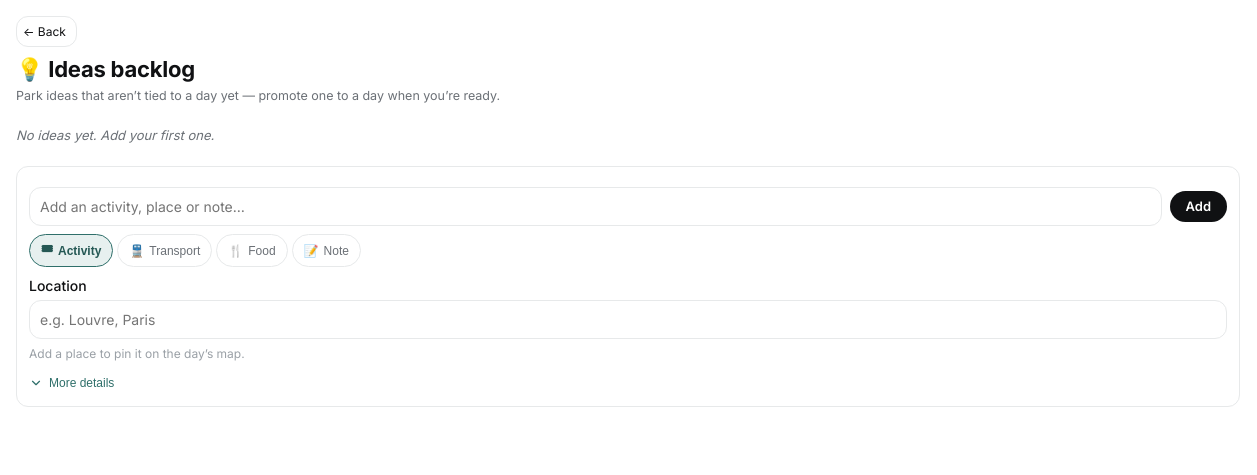
Test: BacklogPage › adds a new backlog idea via the shared form and shows it in the list
Type "Visit the Louvre" into the field named "Title".
click(595, 206); type("Visit the Louvre")  # box [29, 187, 1162, 226]
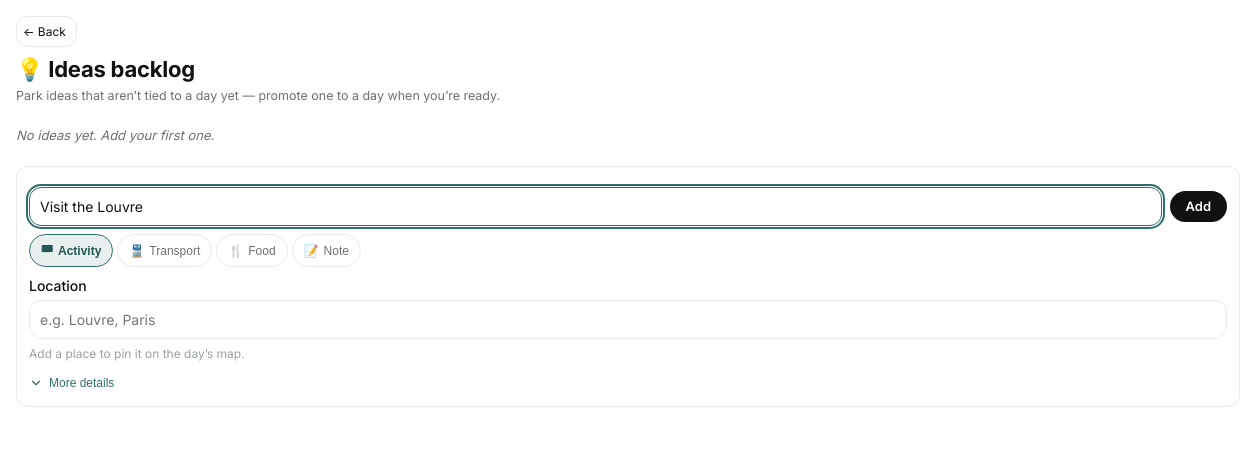
Click the button "Add".
click(1198, 206)  # box [1170, 191, 1227, 222]
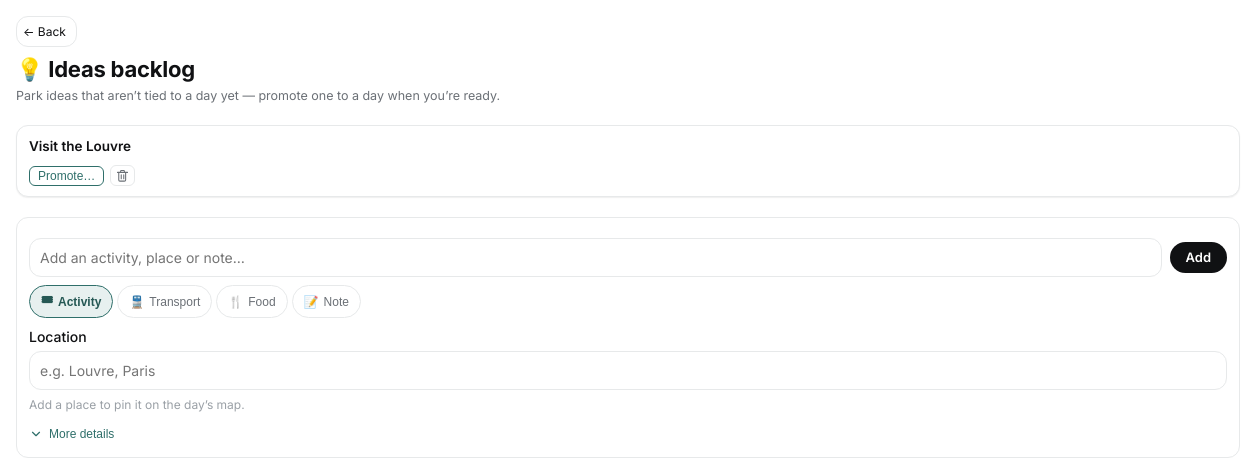
Result: the text "Visit the Louvre" is shown at [29, 136, 131, 157]
